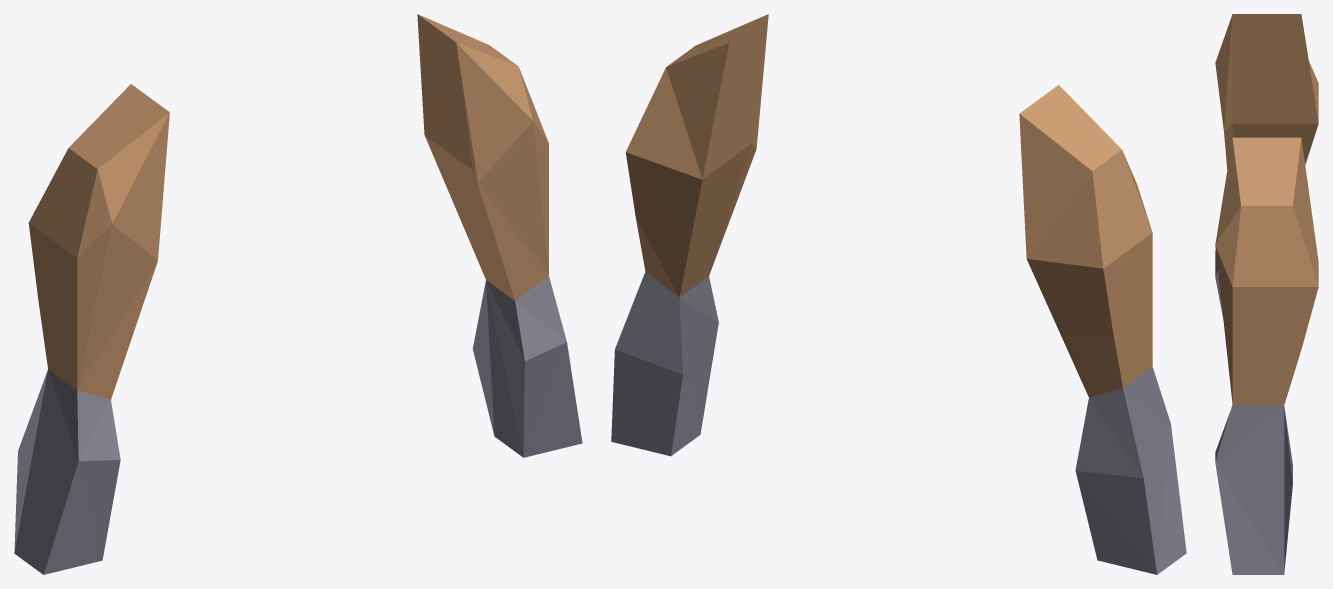
The model's file is npc_world_velrak_the_explorer_6.obj.
3 renders of one model, left to right at view 1: azimuth 30°, elevation 25°; view 2: azimuth 150°, elevation 25°; view 3: azimuth 270°, elevation 25°, orthographic. The views are drawn at different scales.
Bounding box in the file's own units: 0.5 × 0.3828 × 0.0938.
